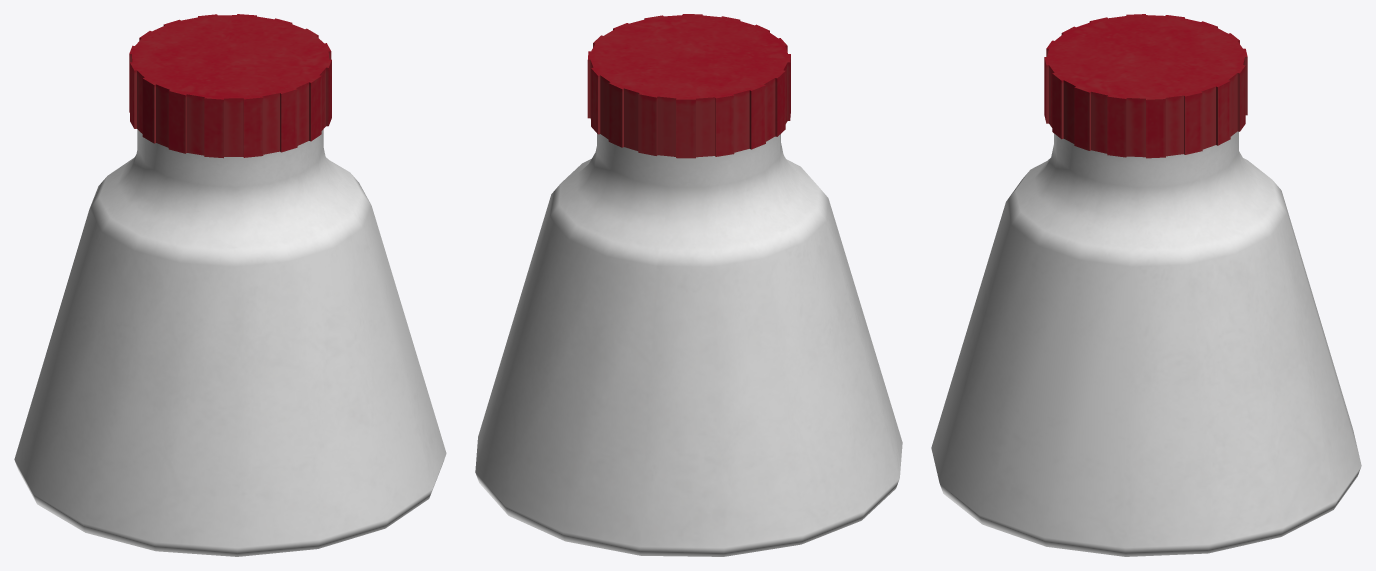
The model's file is MedicineBottleB.fbx.
The picture shows the model from 3 angles, left to right: view 1: azimuth 30°, elevation 25°; view 2: azimuth 150°, elevation 25°; view 3: azimuth 270°, elevation 25°; orthographic projection.
Visible parts, largest first — view 1: MedicineBottleB; view 2: MedicineBottleB; view 3: MedicineBottleB.
Boxes of the visible parts, x1,y1,x2,y2 form: MedicineBottleB: [14, 14, 446, 556]; MedicineBottleB: [475, 14, 902, 556]; MedicineBottleB: [931, 14, 1361, 556].
Size of the model in its own units: 5.82 by 6.15 by 5.82.
